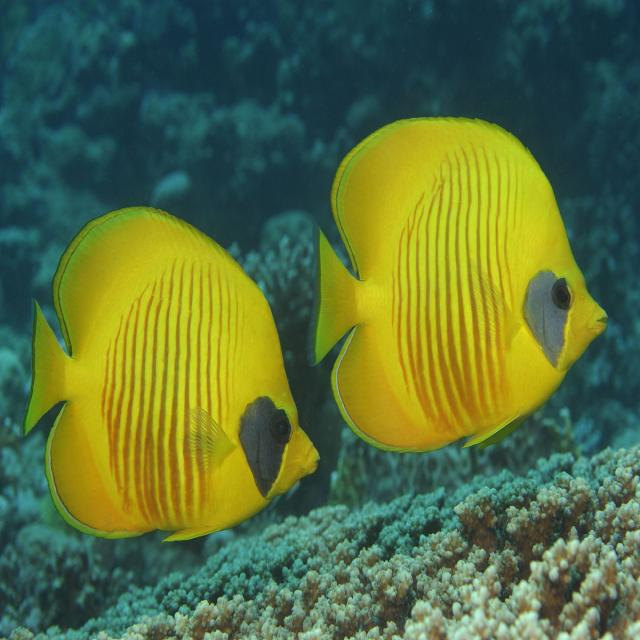ButterflyFish: (25, 207, 319, 542), (320, 116, 610, 454)
